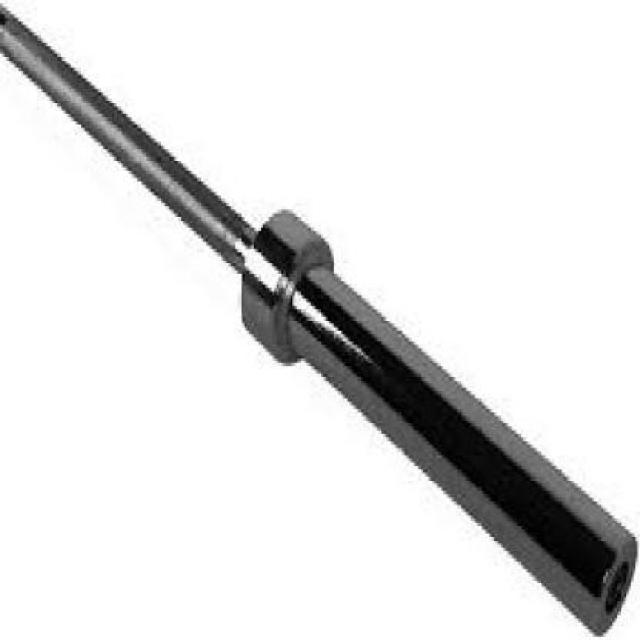Barbell: (572, 518, 638, 637)
